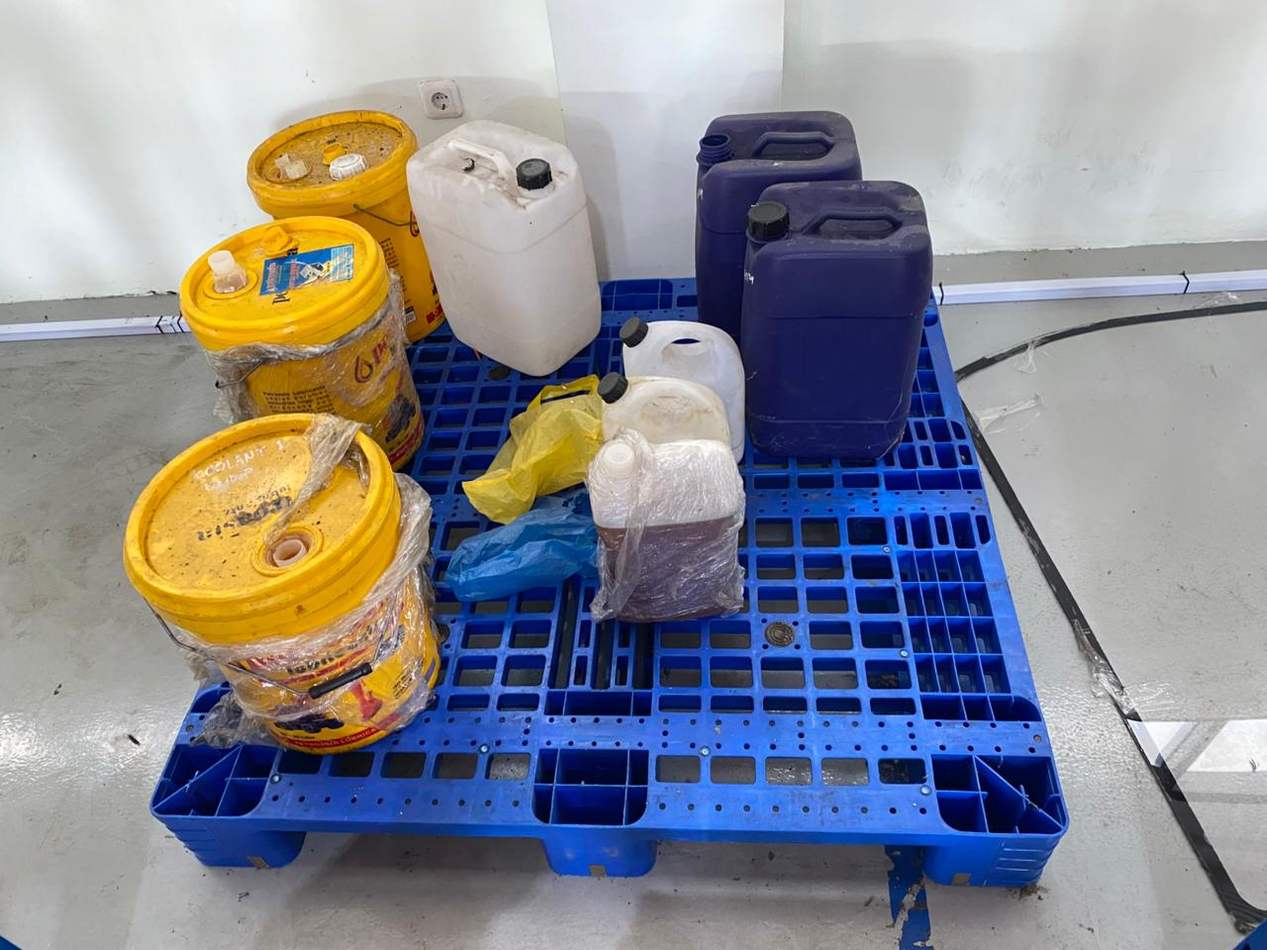block: (926, 825, 1064, 896), (150, 806, 295, 871), (533, 824, 653, 882)
front: (137, 804, 1090, 907)
hole pallet: (654, 822, 938, 890), (283, 814, 548, 876)
